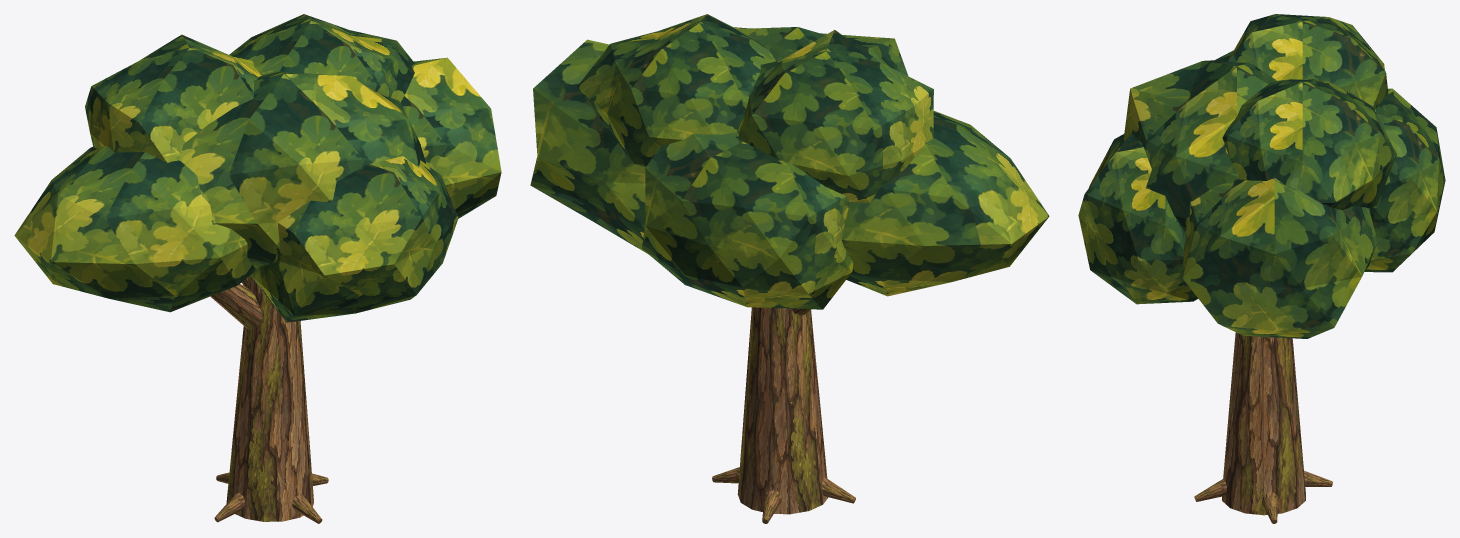
The model's file is english_oak.glb.
3 renders of one model, left to right at view 1: azimuth 30°, elevation 25°; view 2: azimuth 150°, elevation 25°; view 3: azimuth 270°, elevation 25°, orthographic. The views are drawn at different scales.
Visible parts, largest first — view 1: Hand shaped crown lobe 1, Hand shaped crown lobe 2, Hand shaped crown lobe 5, Broad tapered trunk, Hand shaped crown lobe 6, Hand shaped crown lobe 3, Hand shaped crown lobe 7, Tapered branch 1; view 2: Hand shaped crown lobe 4, Hand shaped crown lobe 1, Hand shaped crown lobe 6, Hand shaped crown lobe 7, Broad tapered trunk, Hand shaped crown lobe 3, Hand shaped crown lobe 2; view 3: Hand shaped crown lobe 3, Hand shaped crown lobe 7, Hand shaped crown lobe 2, Hand shaped crown lobe 5, Broad tapered trunk, Hand shaped crown lobe 4, Hand shaped crown lobe 6.
Boxes of the visible parts, x1,y1,x2,y2 form: Hand shaped crown lobe 1: (14, 146, 255, 312); Hand shaped crown lobe 2: (179, 71, 425, 268); Hand shaped crown lobe 5: (250, 156, 458, 322); Broad tapered trunk: (226, 275, 313, 521); Hand shaped crown lobe 6: (85, 34, 261, 162); Hand shaped crown lobe 3: (400, 57, 501, 218); Hand shaped crown lobe 7: (229, 14, 414, 102); Tapered branch 1: (210, 284, 261, 330); Hand shaped crown lobe 4: (642, 132, 853, 309); Hand shaped crown lobe 1: (841, 111, 1049, 296); Hand shaped crown lobe 6: (737, 30, 933, 202); Hand shaped crown lobe 7: (577, 14, 775, 166); Broad tapered trunk: (737, 307, 827, 514); Hand shaped crown lobe 3: (530, 39, 647, 253); Hand shaped crown lobe 2: (734, 27, 908, 75); Hand shaped crown lobe 3: (1182, 177, 1377, 338); Hand shaped crown lobe 7: (1222, 79, 1397, 209); Hand shaped crown lobe 2: (1123, 59, 1276, 232); Hand shaped crown lobe 5: (1078, 133, 1198, 304); Broad tapered trunk: (1222, 332, 1305, 515); Hand shaped crown lobe 4: (1364, 88, 1445, 272); Hand shaped crown lobe 6: (1228, 14, 1388, 109).
Size of the model in its own units: 8.5 by 8.25 by 6.14.
Materials: 2 (2 with a texture image).
